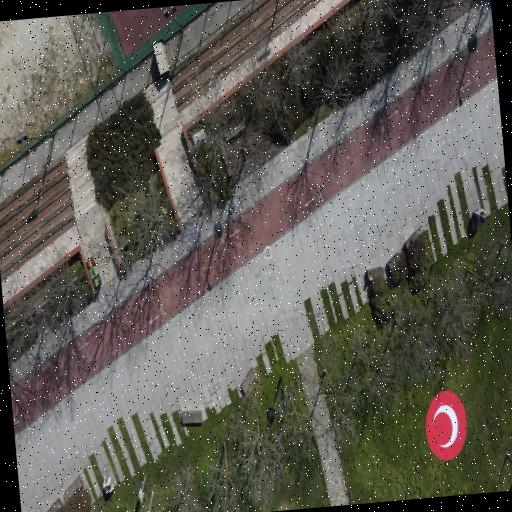UAP: (425, 391, 466, 460)
